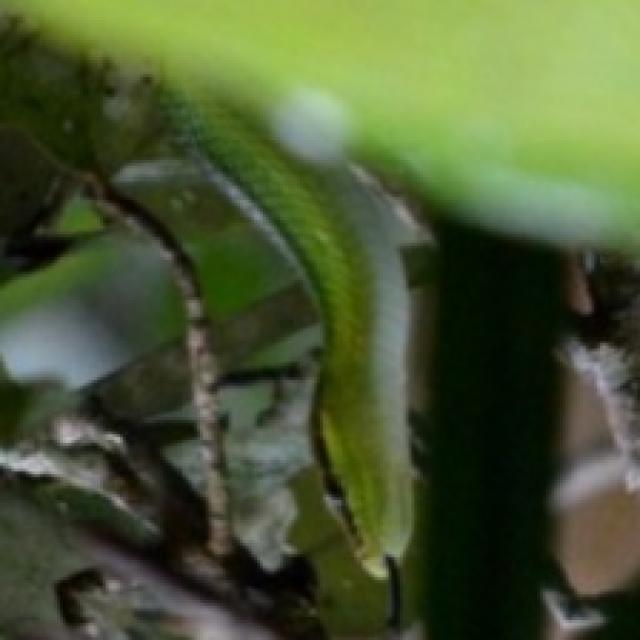red-tailed green ratsnake: (187, 105, 414, 576)
